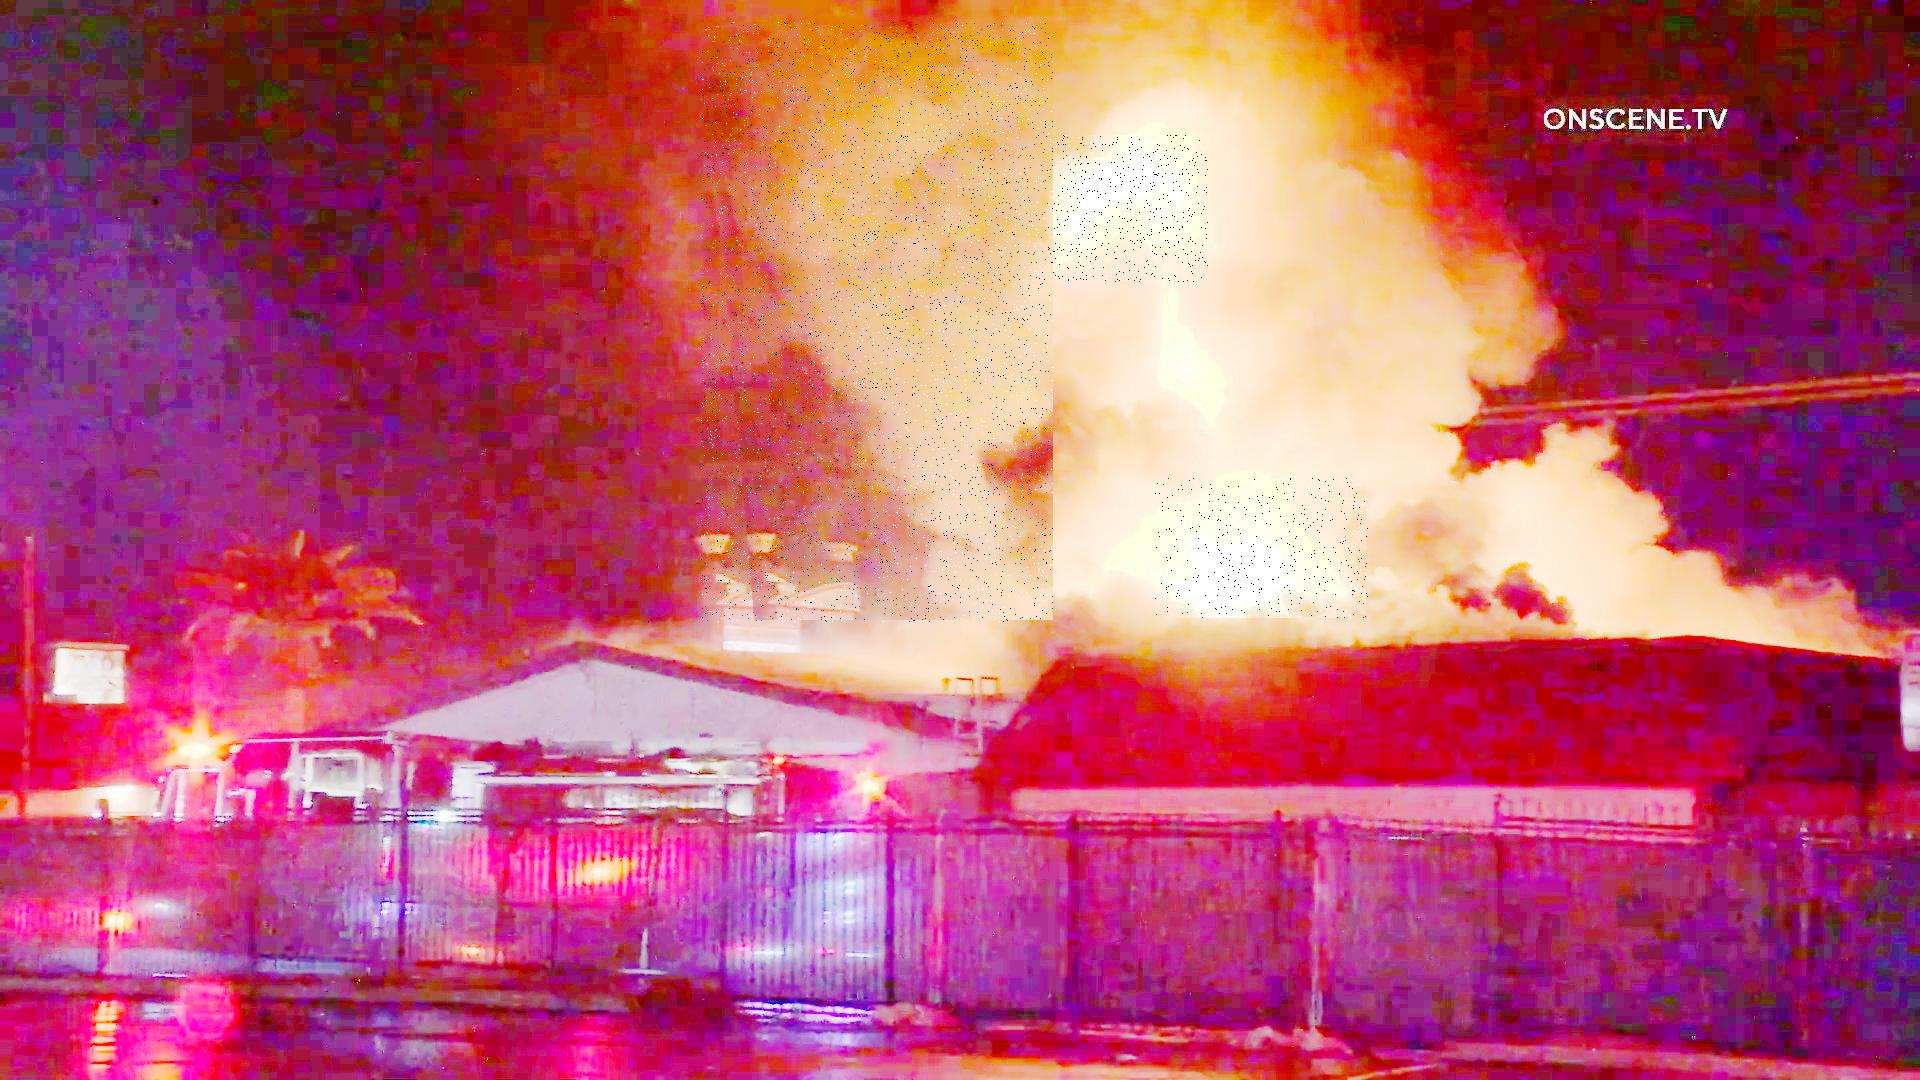fire: (1155, 479, 1369, 618), (1040, 136, 1209, 282)
smoke: (702, 22, 1054, 622)
